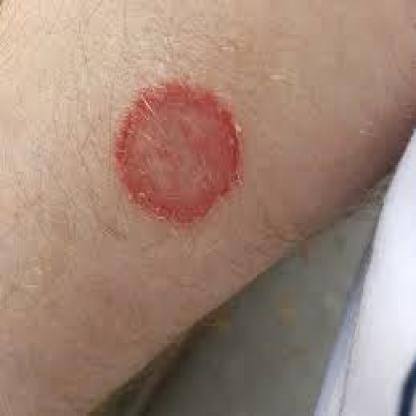Ringworm: (98, 64, 253, 232)
